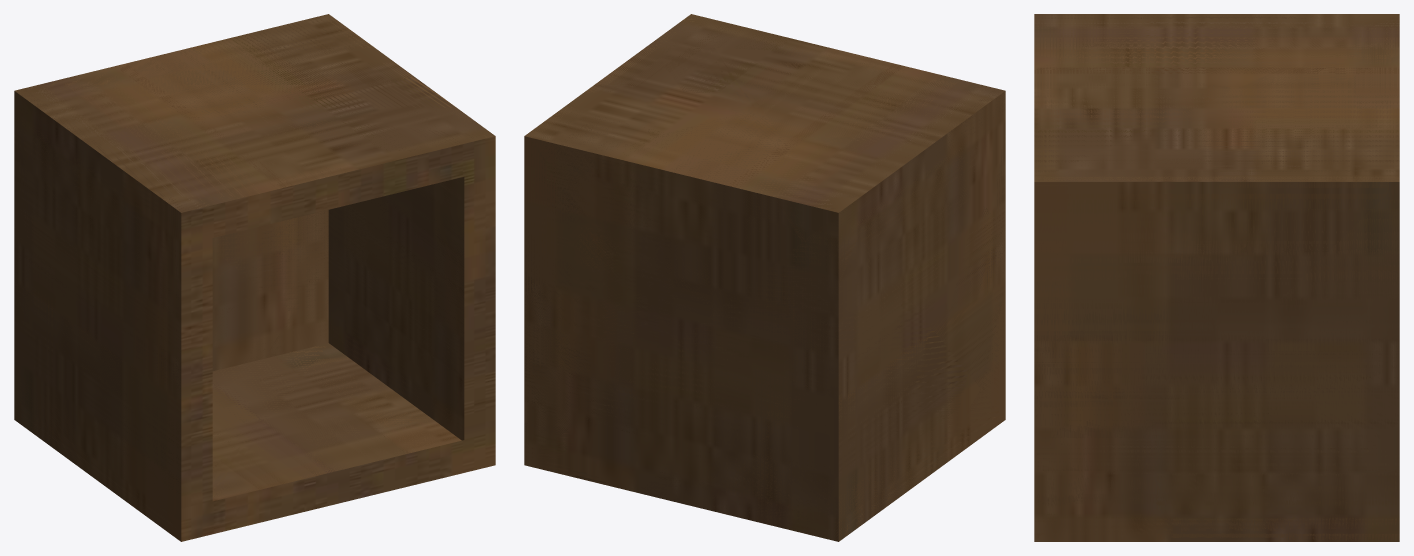
The model's file is original-8.obj.
3 views of the same model, side by side, from view 1: azimuth 30°, elevation 25°; view 2: azimuth 150°, elevation 25°; view 3: azimuth 270°, elevation 25° (orthographic). The views are drawn at different scales.
Visible parts, largest first — view 1: #ID56; view 2: #ID56; view 3: #ID56.
Boxes of the visible parts, <box> form: #ID56: <box>14,14,495,541</box>; #ID56: <box>524,14,1005,541</box>; #ID56: <box>1034,14,1399,541</box>.
Bounding box in the file's own units: 0.9596 × 0.9596 × 0.8822.
